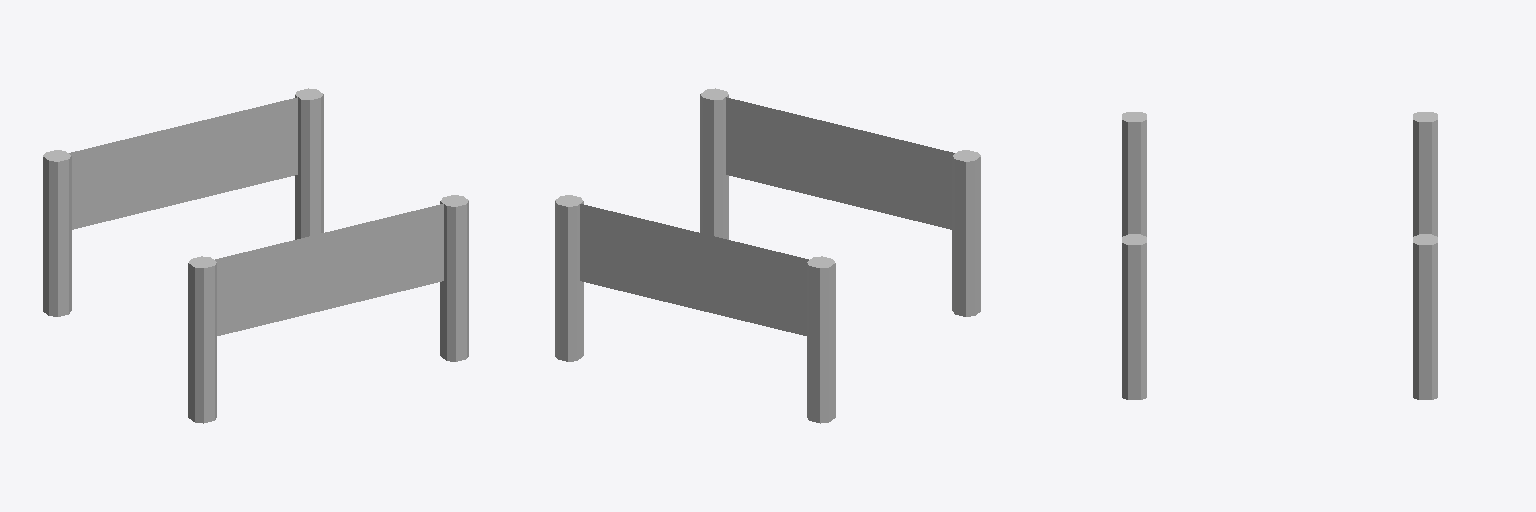
The model's file is banner-double.obj.
The picture shows the model from 3 angles: view 1: azimuth 30°, elevation 25°; view 2: azimuth 150°, elevation 25°; view 3: azimuth 270°, elevation 25°; orthographic projection.
Parts seen in each view (by area): view 1: banner-double; view 2: banner-double; view 3: banner-double.
Boxes of the visible parts, <box> form: banner-double: <box>43,88,468,423</box>; banner-double: <box>555,88,980,423</box>; banner-double: <box>1122,112,1437,399</box>.
Bounding box in the file's own units: 0.925 × 0.5 × 0.925.